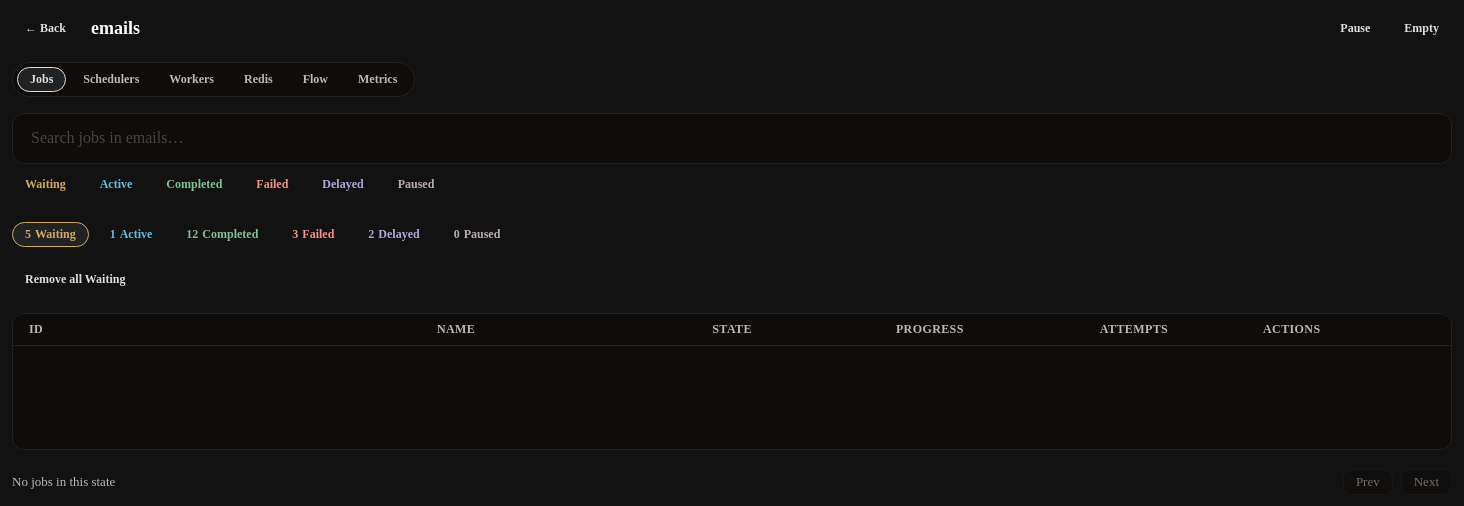
Test case: QueueJobs actions › pauses and resumes the queue from the header
The image size is (1464, 506).
Click the button with aria-label "Pause queue".
click(1355, 29)  # box [1327,12,1383,46]
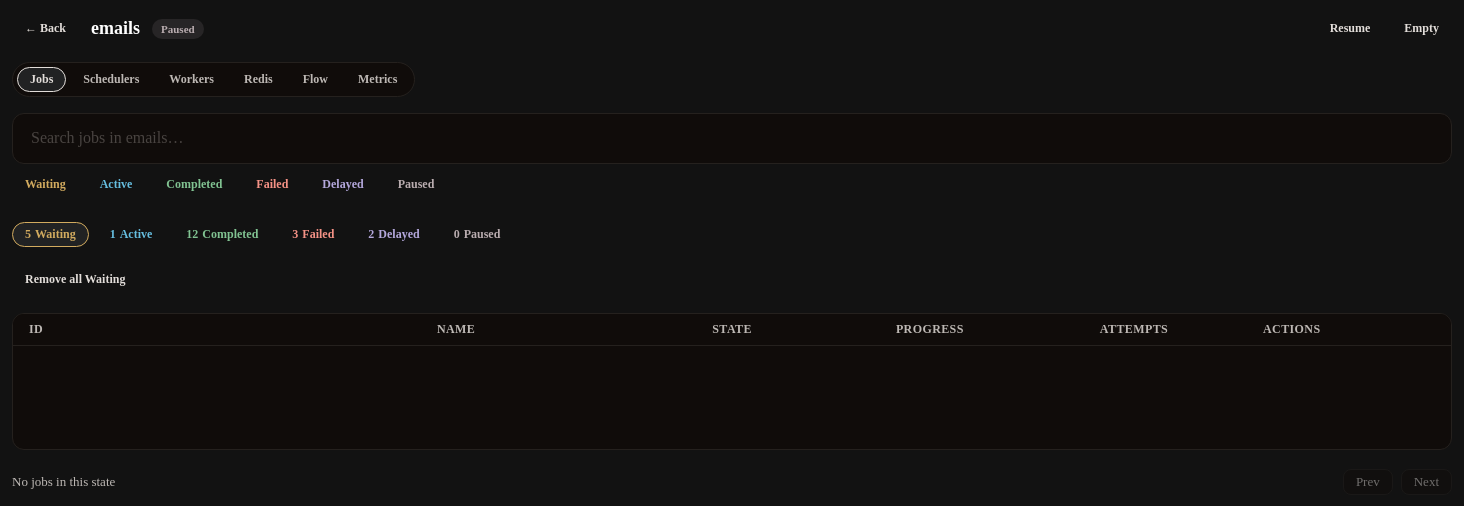
Expected: the button with aria-label "Resume queue" is shown
Click the button with aria-label "Resume queue".
click(1350, 29)  # box [1317,12,1383,46]
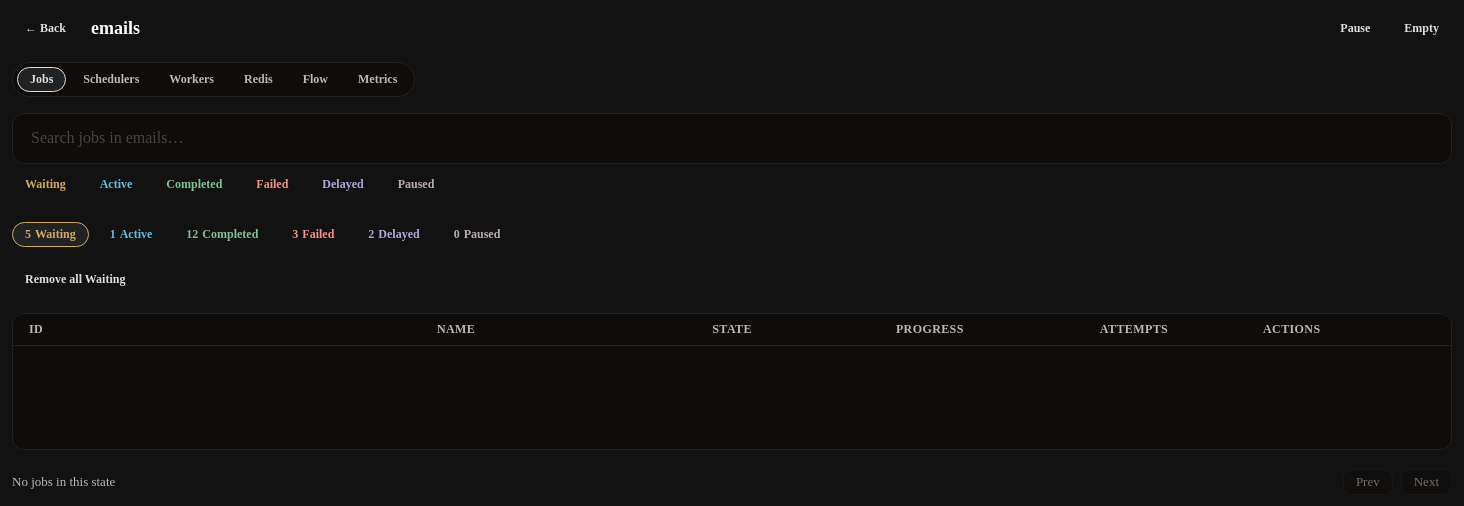
Expected: the button with aria-label "Pause queue" is shown, [1327,12,1383,46]
